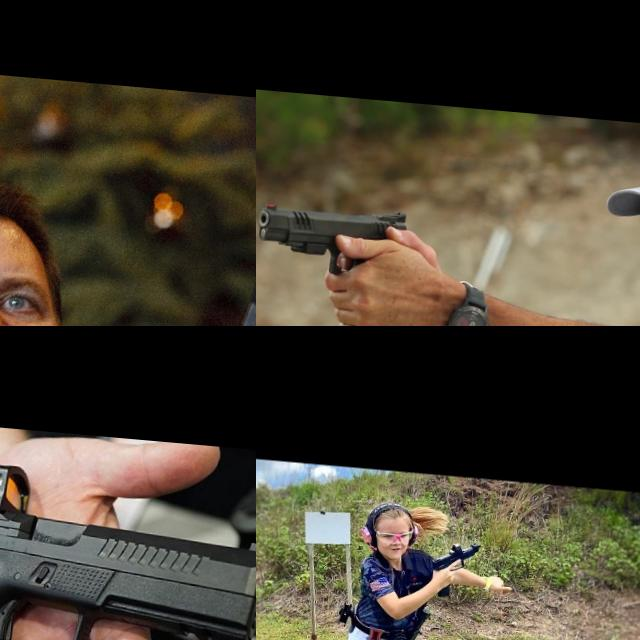handgun: (0, 445, 256, 640), (256, 196, 413, 282), (429, 536, 483, 574)
